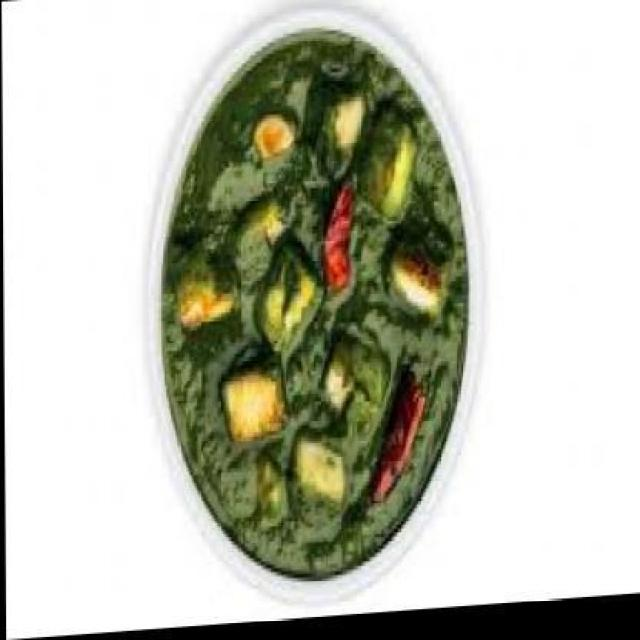palak_paneer: (157, 23, 468, 592)
